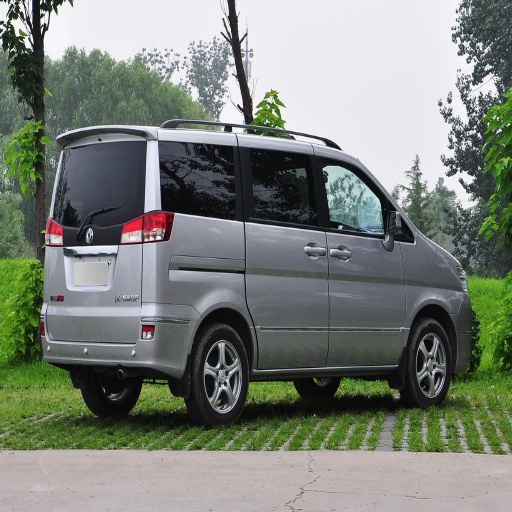back_bumper: (40, 250, 191, 371)
back_right_door: (253, 145, 327, 363)
trunk: (46, 208, 254, 353)
